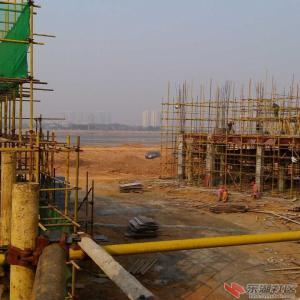red: (252, 182, 256, 186), (221, 186, 225, 190), (223, 190, 227, 193)
